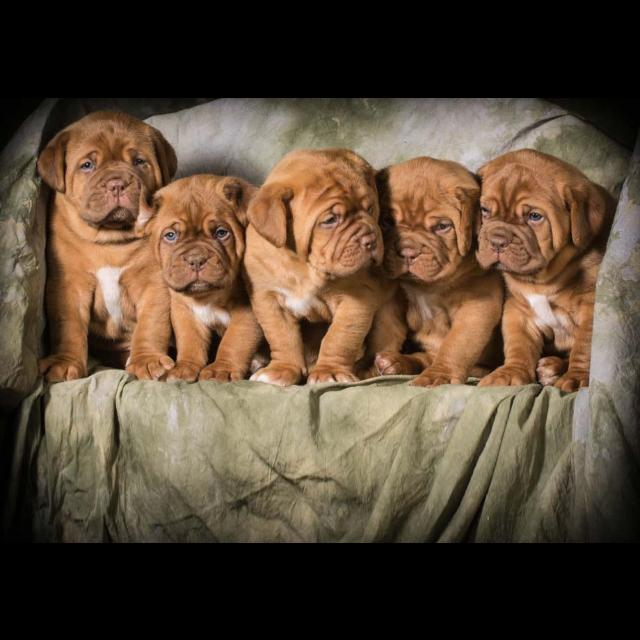dogue_de_bordeaux: (36, 109, 179, 383), (242, 146, 398, 386), (474, 148, 618, 393), (366, 156, 505, 389), (138, 172, 267, 382)
